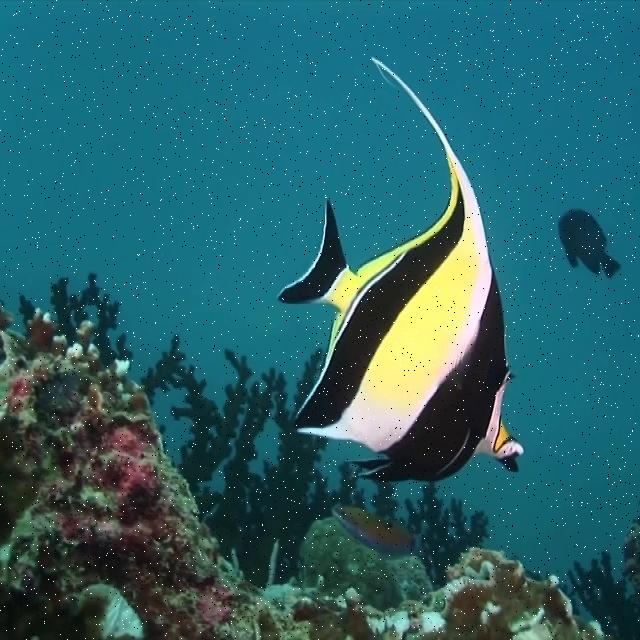fish: (278, 54, 526, 482), (558, 208, 621, 280)
reefs: (0, 303, 604, 639)
